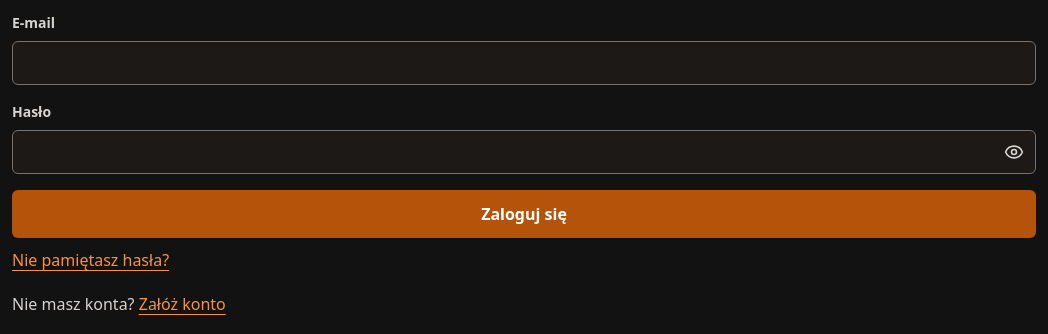
LoginForm › logs in and replaces the location with next, staying pending
Type "ala@example.com" into the field labelled "E-mail" at (524, 63), box [12,41,1036,85]
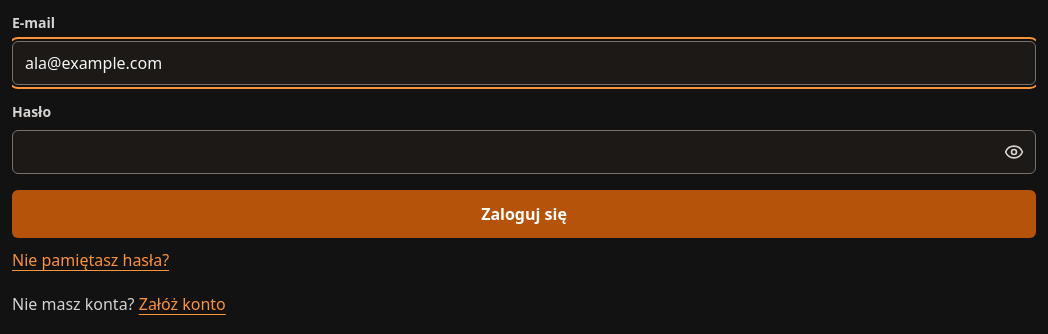
Type "secret123" into the password field labelled "Hasło" at (524, 152), box [12,130,1036,174]
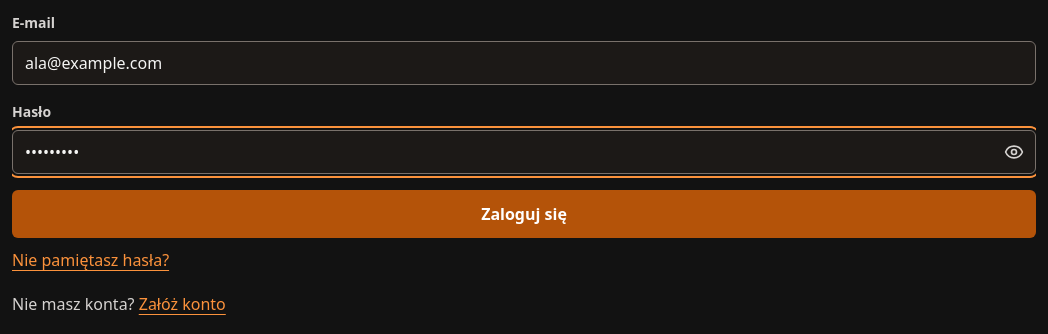
Click the button "Zaloguj się" at (524, 214), box [12,190,1036,238]
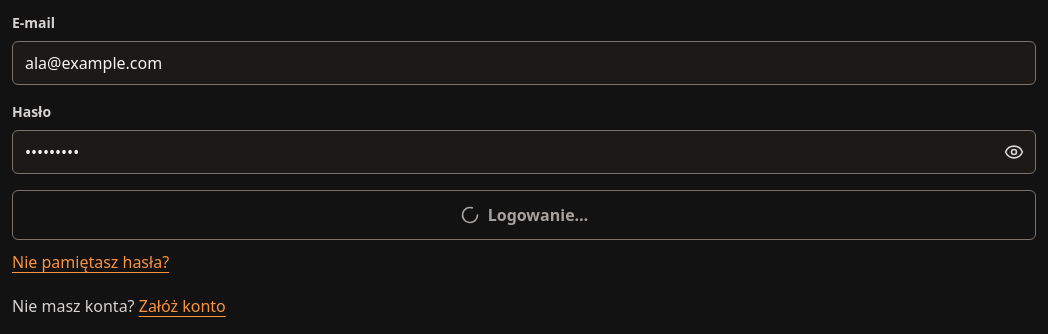
Check: the button "Logowanie…" is disabled, box [12,190,1036,240]
